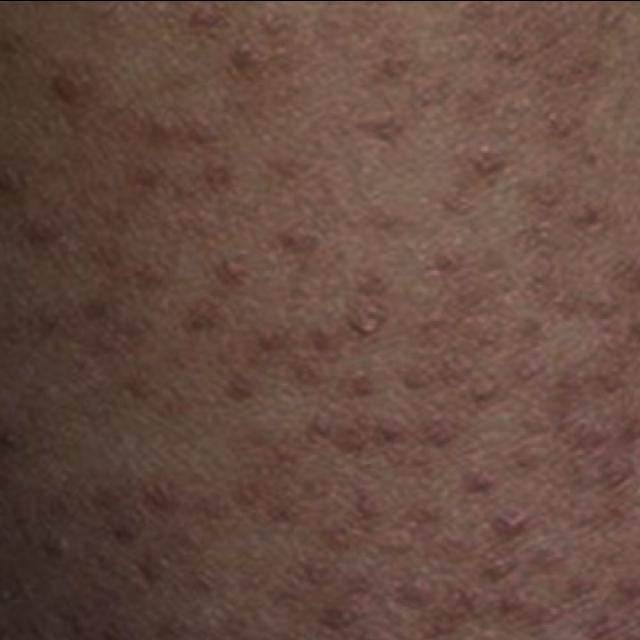keratosis pilaris: (3, 19, 640, 640)
